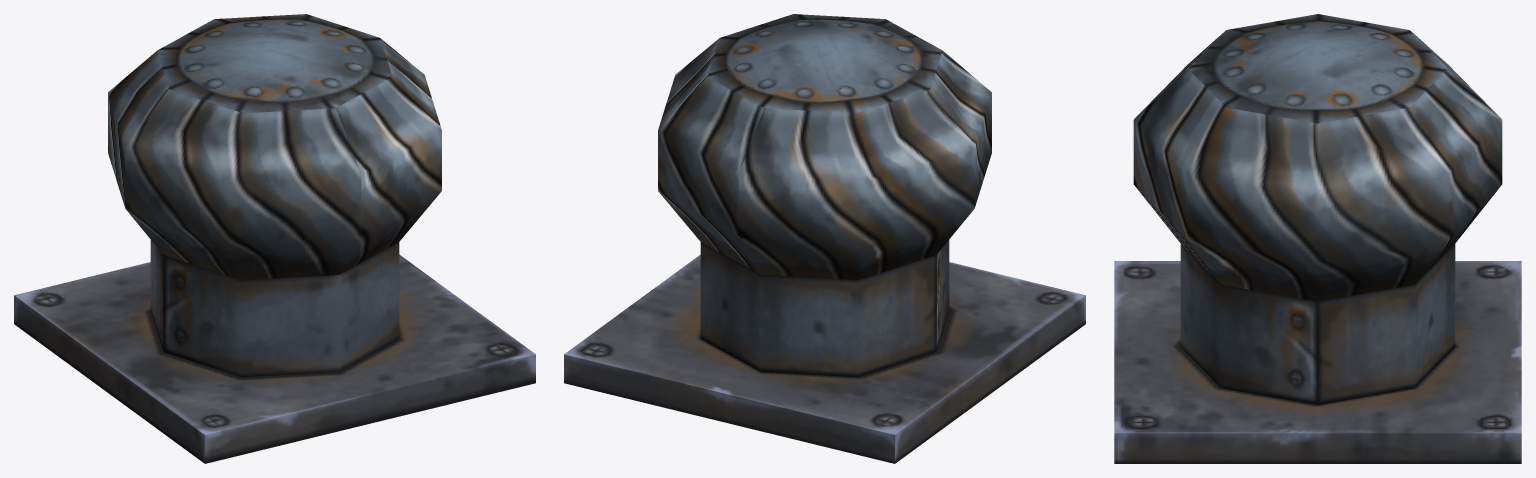
File: chimney_roof05.fbx
3 renders of one model, left to right at view 1: azimuth 30°, elevation 25°; view 2: azimuth 150°, elevation 25°; view 3: azimuth 270°, elevation 25°, orthographic. The views are drawn at different scales.
Parts seen in each view (by area): view 1: chimney_roof05; view 2: chimney_roof05; view 3: chimney_roof05.
Boxes of the visible parts, x1,y1,x2,y2 form: chimney_roof05: (14, 14, 535, 463); chimney_roof05: (564, 14, 1085, 463); chimney_roof05: (1114, 14, 1521, 463).
Size of the model in its own units: 120 by 107 by 120.
